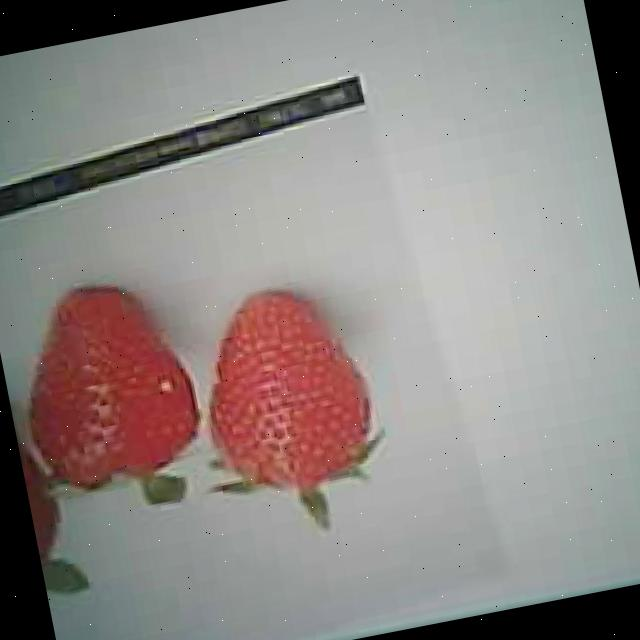strawberry: (5, 276, 207, 497), (185, 280, 384, 504)
